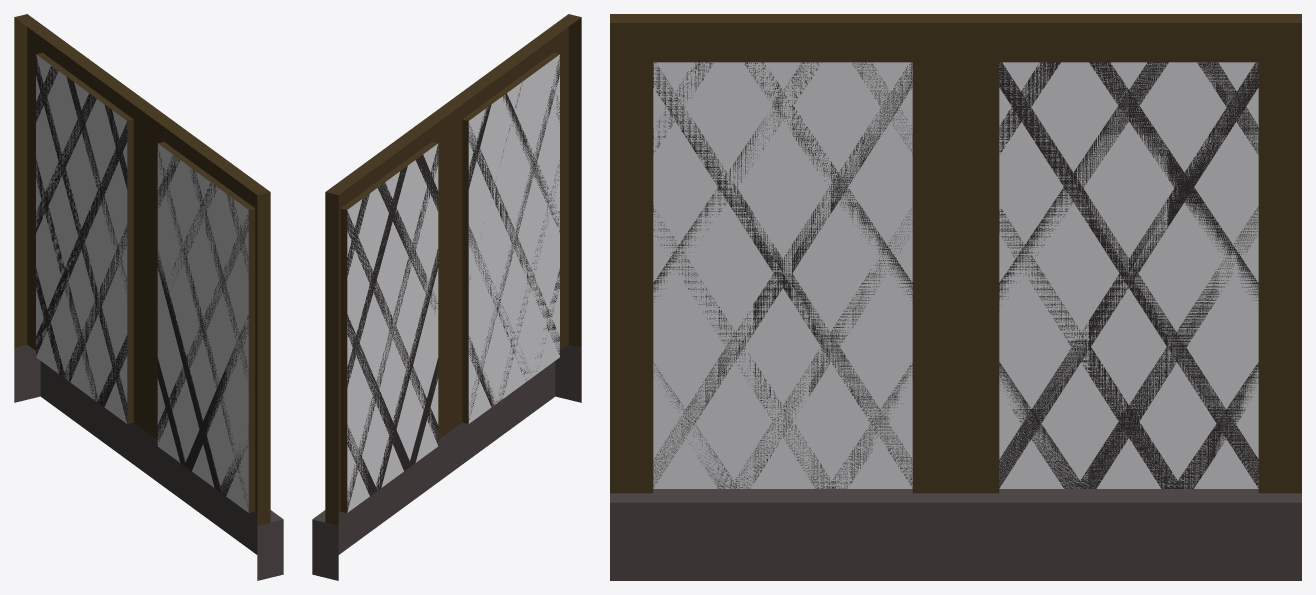
The model's file is model_loc_1828_q.obj.
The picture shows the model from 3 angles, left to right: view 1: azimuth 30°, elevation 25°; view 2: azimuth 150°, elevation 25°; view 3: azimuth 270°, elevation 25°; orthographic projection. The views are drawn at different scales.
Parts seen in each view (by area): view 1: 2128; view 2: 2128; view 3: 2128.
Boxes of the visible parts, x1,y1,x2,y2 form: 2128: (14,14,283,580); 2128: (312,14,581,580); 2128: (610,14,1301,580).
Bounding box in the file's own units: 8 × 112 × 128.
